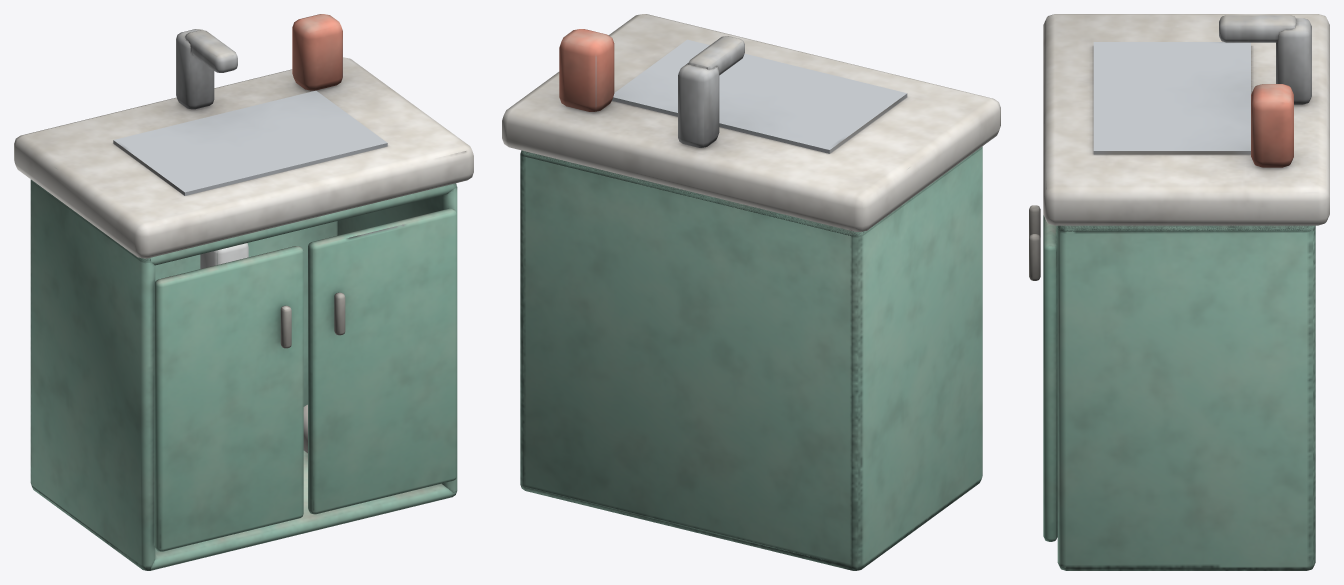
File: sink_cabinet.fbx
3 renders of one model, left to right at view 1: azimuth 30°, elevation 25°; view 2: azimuth 150°, elevation 25°; view 3: azimuth 270°, elevation 25°, orthographic. The views are drawn at different scales.
Visible parts, largest first — view 1: Body, DoorL, DoorR, Tap; view 2: Body, Tap; view 3: Body, DoorR, Tap.
Boxes of the visible parts, box(x1,y1,x2,y2) form: Body: box(14, 14, 473, 570); DoorL: box(154, 246, 303, 551); DoorR: box(308, 208, 456, 514); Tap: box(176, 29, 237, 109); Body: box(502, 14, 1000, 570); Tap: box(678, 36, 744, 147); Body: box(1043, 14, 1329, 570); DoorR: box(1029, 215, 1057, 541); Tap: box(1219, 15, 1311, 104).
Size of the model in its own units: 3 by 3.63 by 2.1.
1 material, 1 textured.
